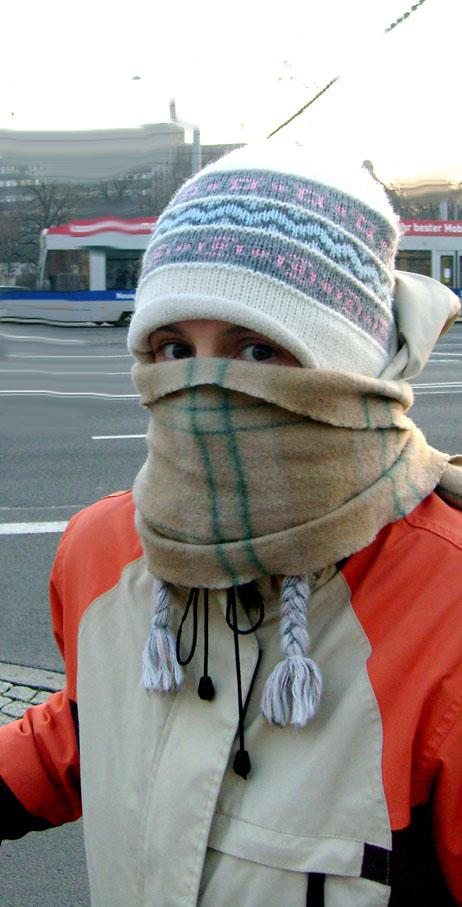OK: (151, 322, 343, 514)
